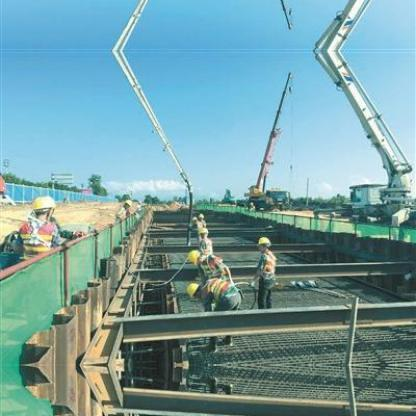helmet: (31, 195, 57, 213), (186, 250, 201, 267), (186, 280, 199, 299), (256, 236, 270, 247), (200, 225, 208, 235), (123, 200, 133, 207)
